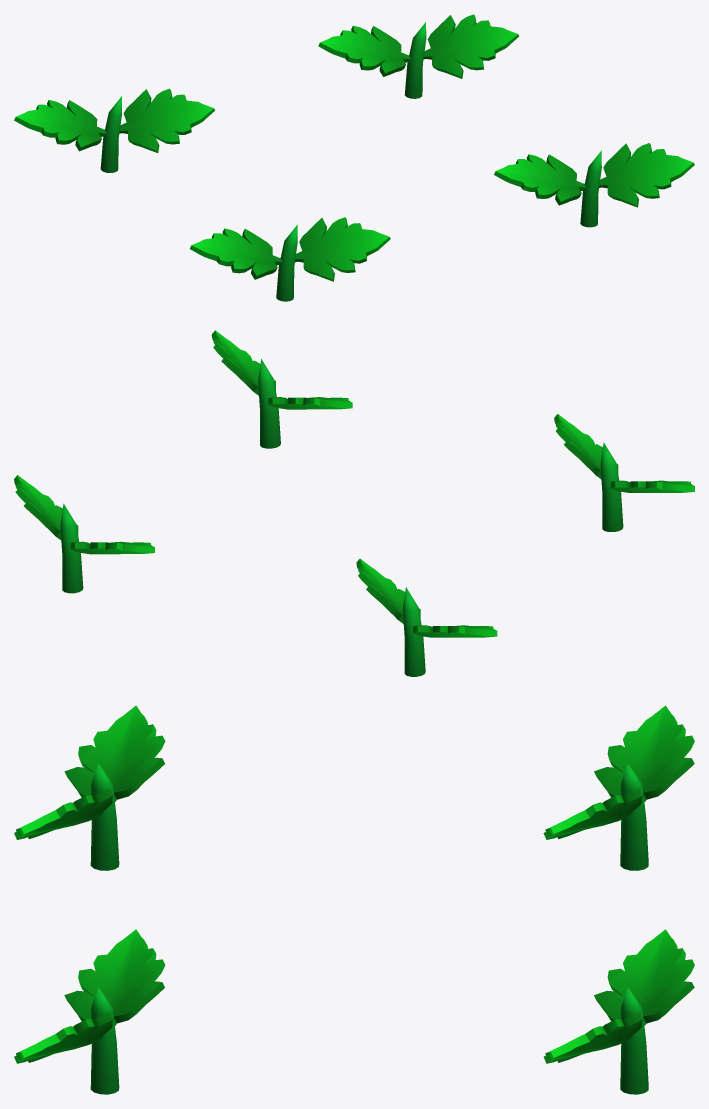
File: Farm_Crop_Okra_Step_01.fbx
3 views of the same model, one above another, from view 1: azimuth 30°, elevation 25°; view 2: azimuth 150°, elevation 25°; view 3: azimuth 270°, elevation 25° (orthographic). The views are drawn at different scales.
Visible parts, largest first — view 1: Farm_Crop_Okra_Step_01; view 2: Farm_Crop_Okra_Step_01; view 3: Farm_Crop_Okra_Step_01.
Boxes of the visible parts, x1,y1,x2,y2 form: Farm_Crop_Okra_Step_01: (14, 14, 694, 301); Farm_Crop_Okra_Step_01: (14, 330, 694, 676); Farm_Crop_Okra_Step_01: (14, 705, 694, 1094).
Size of the model in its own units: 154 by 22.78 by 129.
